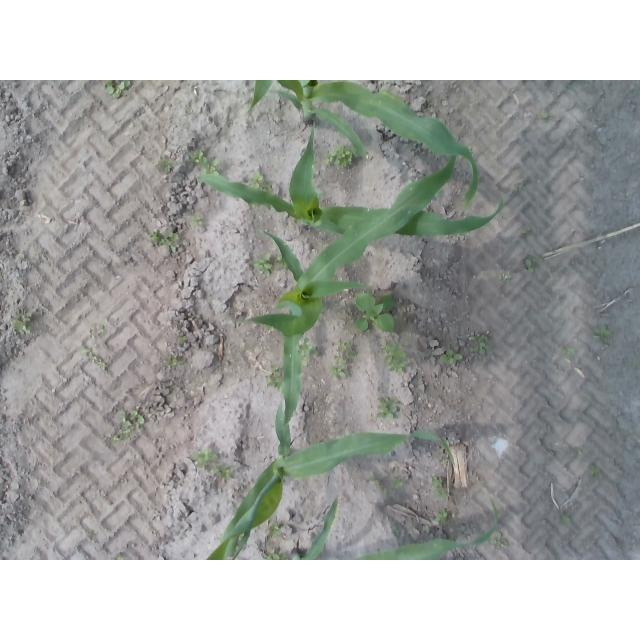Maize: (204, 312, 454, 560), (232, 155, 457, 334), (196, 122, 502, 236), (248, 80, 481, 206), (292, 497, 508, 560)
Weeds: (351, 293, 398, 331), (382, 339, 406, 373), (335, 340, 350, 381), (327, 147, 353, 167), (190, 448, 219, 464), (190, 153, 214, 171), (377, 397, 398, 417), (108, 81, 131, 99), (255, 254, 273, 277), (300, 342, 318, 364), (472, 333, 489, 355), (156, 155, 175, 174), (122, 413, 146, 428), (442, 349, 465, 363), (249, 170, 264, 189), (267, 369, 282, 388), (594, 325, 610, 340), (13, 316, 31, 328), (217, 465, 232, 479), (265, 548, 280, 561), (164, 233, 180, 245), (434, 508, 448, 521), (265, 524, 280, 536), (434, 476, 446, 489), (494, 534, 507, 546), (151, 232, 162, 245), (168, 359, 185, 367), (526, 259, 535, 273), (192, 216, 202, 227), (562, 513, 571, 524), (392, 480, 402, 489), (590, 465, 598, 476)
